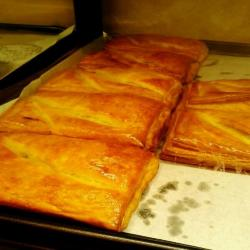apple_pie: (24, 33, 214, 153)
